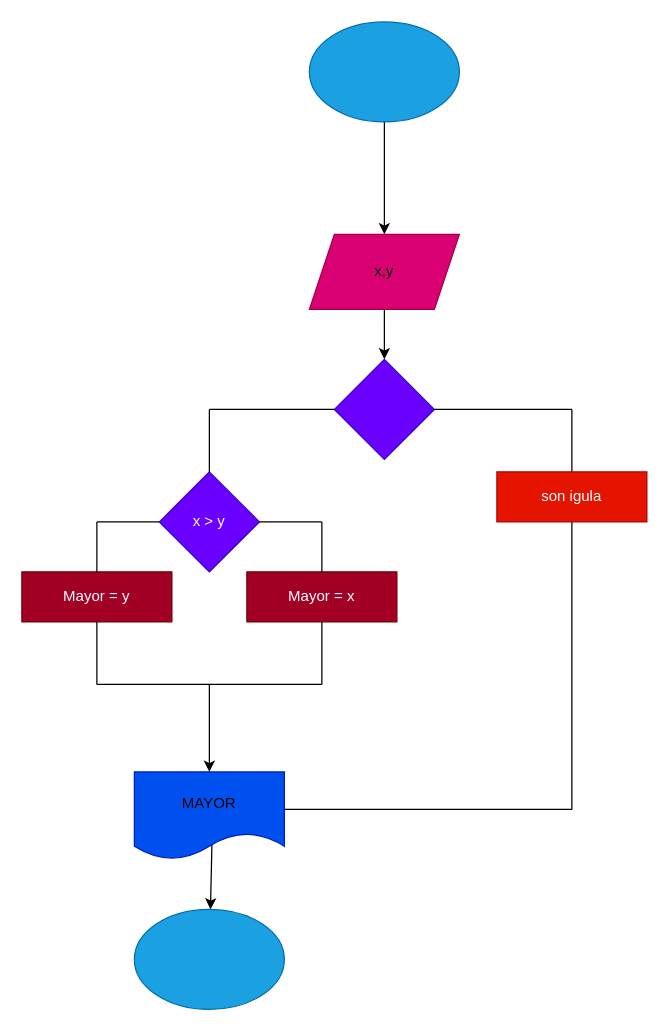
The diagram is 669 pixels wide and 1031 high, and some of its shapes have lost their labels. The shapes that lost their labels are listed below. From the top down, each one's box as (x1, y1, x2, y2) in pixels, then its label:
(308, 21, 459, 122): INICIO
(333, 358, 434, 459): x == y
(133, 908, 284, 1009): FIN
